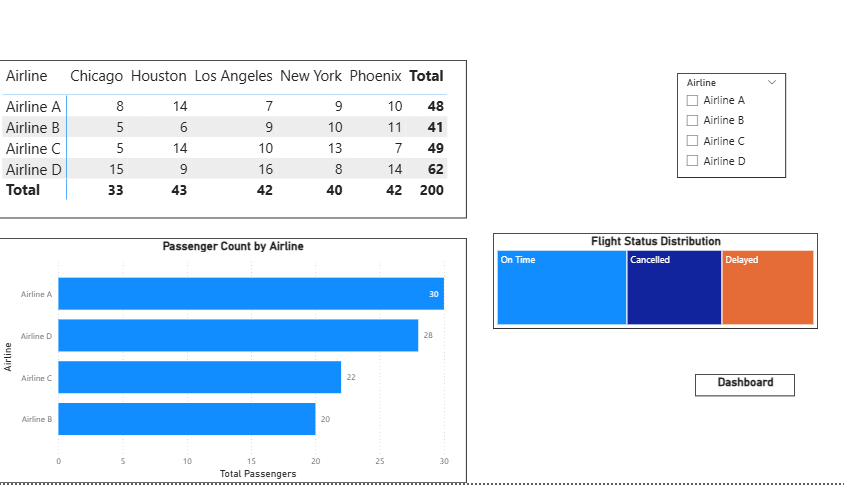

The page's visual inventory and layout, read from the dashboard file:
{"tool":"powerbi","page":{"name":"Airline Specific Analysis","canvas":[1280,720],"ordinal":2},"visuals":[{"type":"pivotTable","fields":{"Rows":["flight_information.Airline"],"Columns":["flight_information.Destination"],"Values":["CountNonNull(flight_information.FlightID)"]},"box":[0,110.9,675.4,227.5],"z":0},{"type":"barChart","title":"Passenger Count by Airline","fields":{"Category":["flight_information.Airline"],"Y":["flight_information.Total Passengers"]},"box":[0,367.2,675.4,352.8],"z":1000},{"type":"treemap","title":"Flight Status Distribution","fields":{"Group":["flight_information.Status"],"Values":["CountNonNull(flight_information.FlightID)"]},"box":[712.8,360,468,138.2],"z":2000},{"type":"slicer","fields":{"Values":["flight_information.Airline"]},"box":[977.8,129.6,157,151.2],"z":3000},{"type":"actionButton","title":"Dashboard","box":[1003.7,563,144,31.7],"z":4000}]}

Visuals, with their boxes in screenshot pixels (x1, y1, x2, y2), scaled from the page's 1280x720 canvas onto the 844x488 screenshot:
pivotTable - flight_information.Airline x flight_information.Destination: rect(0, 75, 445, 229)
"Passenger Count by Airline" barChart: rect(0, 249, 445, 487)
"Flight Status Distribution" treemap: rect(470, 244, 779, 338)
slicer - flight_information.Airline: rect(645, 88, 748, 190)
"Dashboard" actionButton: rect(662, 382, 757, 403)
